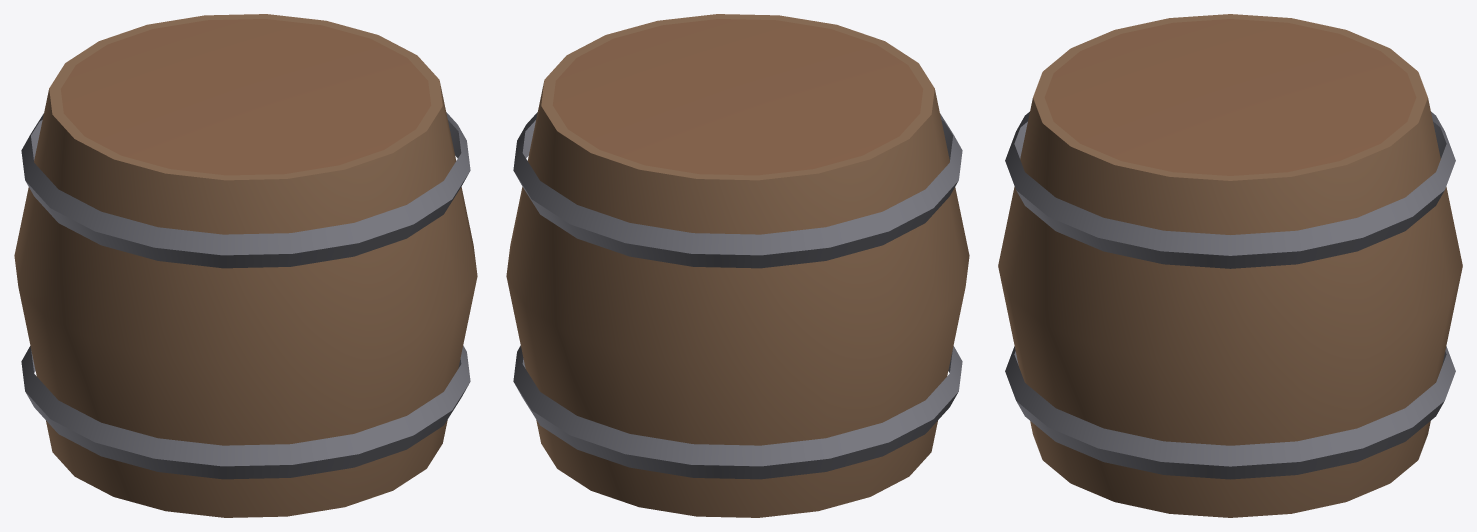
File: ChocolateBarrel.fbx
The picture shows the model from 3 angles, left to right: view 1: azimuth 30°, elevation 25°; view 2: azimuth 150°, elevation 25°; view 3: azimuth 270°, elevation 25°; orthographic projection.
Visible parts, largest first — view 1: ChocolateBarrel; view 2: ChocolateBarrel; view 3: ChocolateBarrel.
Part boxes in pixels (x1,y1,x2,y2): ChocolateBarrel: [14, 14, 477, 517]; ChocolateBarrel: [506, 14, 969, 517]; ChocolateBarrel: [998, 14, 1462, 517].
Bounding box in the file's own units: 2 × 1.62 × 2.
